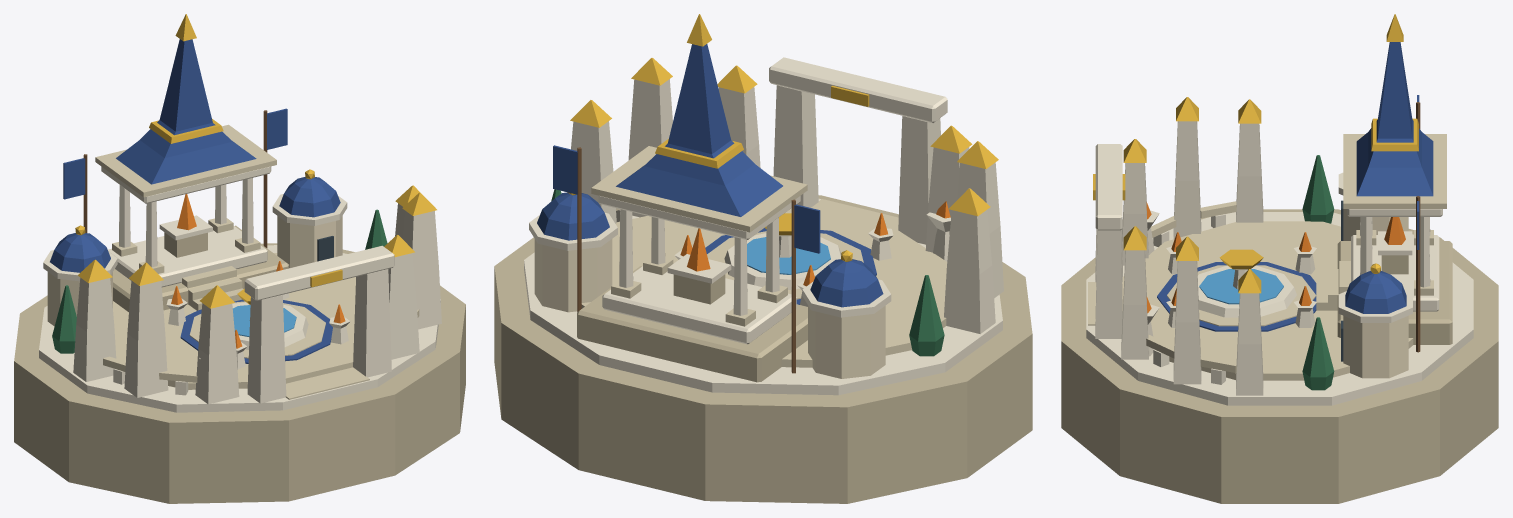
Rendered from ns-holy-site.glb.
3 renders of one model, left to right at view 1: azimuth 30°, elevation 25°; view 2: azimuth 150°, elevation 25°; view 3: azimuth 270°, elevation 25°, orthographic. The views are drawn at different scales.
Parts seen in each view (by area): view 1: GW solid, GW solid.003, GW solid.001, GW solid.002, GW solid.014, GW solid.024, Cube.002, GW solid.025, GW solid.016, GW solid.012, Cube.024, GW solid.020 (+28 smaller); view 2: GW solid, GW solid.001, GW solid.003, GW solid.002, Cube.001, Cube.002, GW solid.012, GW solid.006, Cube.024, GW solid.009, GW solid.025, Cube.013 (+36 smaller); view 3: GW solid, GW solid.002, GW solid.001, GW solid.003, GW solid.009, Cube.013, GW solid.020, GW solid.025, Cube.001, GW solid.014, GW solid.018, GW solid.022 (+21 smaller).
Part boxes in pixels (x1,y1,x2,y2): GW solid: (14, 243, 465, 503); GW solid.003: (116, 39, 256, 184); GW solid.001: (39, 245, 440, 412); GW solid.002: (113, 253, 355, 389); GW solid.014: (124, 280, 168, 397); GW solid.024: (247, 295, 286, 403); Cube.002: (108, 226, 267, 287); GW solid.025: (353, 269, 391, 377); GW solid.016: (195, 303, 239, 404); GW solid.012: (73, 277, 116, 381); Cube.024: (244, 245, 394, 300); GW solid.020: (403, 210, 441, 329); GW solid: (494, 195, 1032, 503); GW solid.001: (524, 198, 1002, 395); GW solid.003: (616, 44, 782, 216); GW solid.002: (581, 208, 947, 367); Cube.001: (577, 266, 807, 382); Cube.002: (602, 266, 796, 344); GW solid.012: (944, 210, 995, 333); GW solid.006: (808, 305, 885, 378); Cube.024: (769, 57, 947, 122); GW solid.009: (534, 239, 612, 312); GW solid.025: (773, 85, 818, 207); Cube.013: (591, 146, 807, 232); GW solid: (1061, 209, 1498, 503); GW solid.002: (1122, 221, 1413, 380); GW solid.001: (1086, 212, 1473, 405); GW solid.003: (1356, 42, 1433, 196); GW solid.009: (1343, 315, 1408, 378); Cube.013: (1343, 134, 1446, 208); GW solid.020: (1173, 261, 1201, 384); GW solid.025: (1095, 230, 1122, 338); Cube.001: (1337, 241, 1452, 344); GW solid.014: (1173, 121, 1201, 238); GW solid.018: (1121, 250, 1148, 359); GW solid.022: (1236, 293, 1263, 395).
Size of the model in its own units: 1.28 by 1.11 by 1.14.
